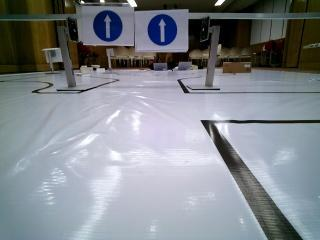straight: (75, 3, 132, 44), (133, 11, 190, 48)
